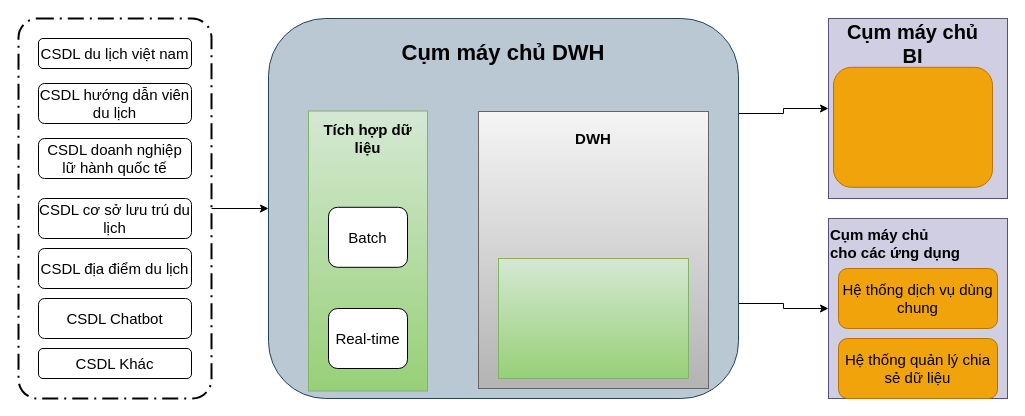
The diagram is 1025 pixels wide and 416 high, and some of its shapes have lost their labels. Here are the shapes that lost their labels. From the top down, the centre of each, then its label:
(x=912, y=126): Hệ thống BI (Dashboard)
(x=593, y=318): ODS
